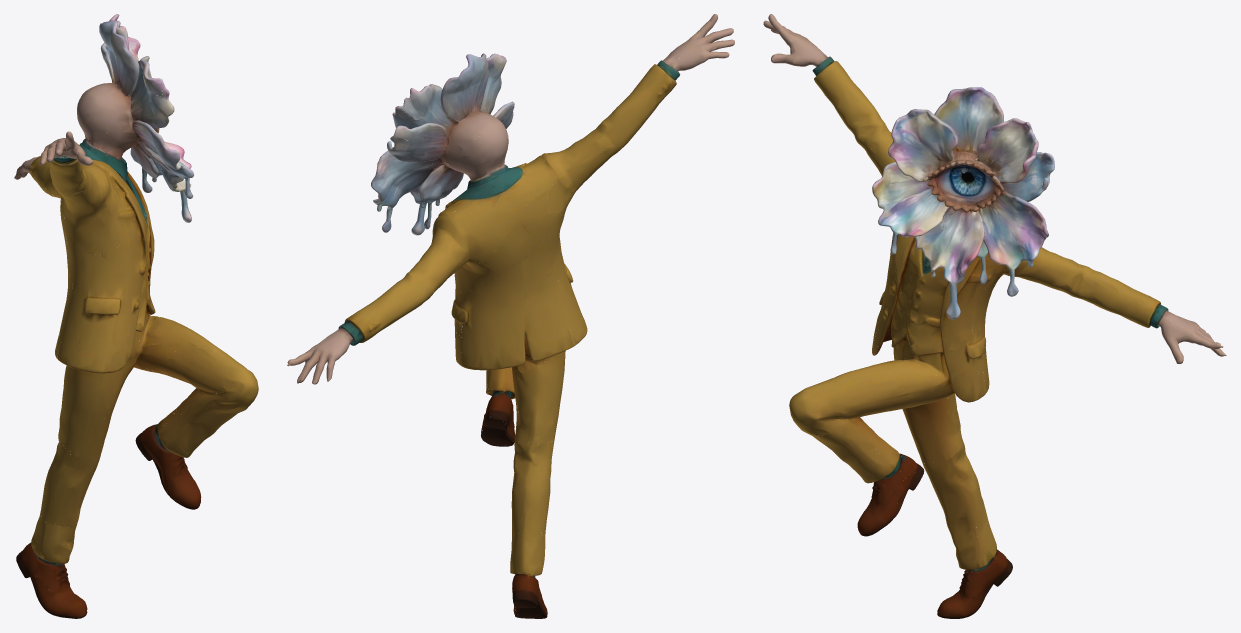
File: dancer.glb
3 renders of one model, left to right at view 1: azimuth 30°, elevation 25°; view 2: azimuth 150°, elevation 25°; view 3: azimuth 270°, elevation 25°, orthographic. The views are drawn at different scales.
Parts seen in each view (by area): view 1: tripo_node_e7b69b92-1b23-4fea-ae50-27bacfa6c3b1; view 2: tripo_node_e7b69b92-1b23-4fea-ae50-27bacfa6c3b1; view 3: tripo_node_e7b69b92-1b23-4fea-ae50-27bacfa6c3b1.
Boxes of the visible parts, x1,y1,x2,y2 form: tripo_node_e7b69b92-1b23-4fea-ae50-27bacfa6c3b1: (14,14,258,618); tripo_node_e7b69b92-1b23-4fea-ae50-27bacfa6c3b1: (287,14,734,618); tripo_node_e7b69b92-1b23-4fea-ae50-27bacfa6c3b1: (763,14,1226,618).
Bounding box in the file's own units: 0.437 × 1 × 0.7552.
1 material, 1 textured.
